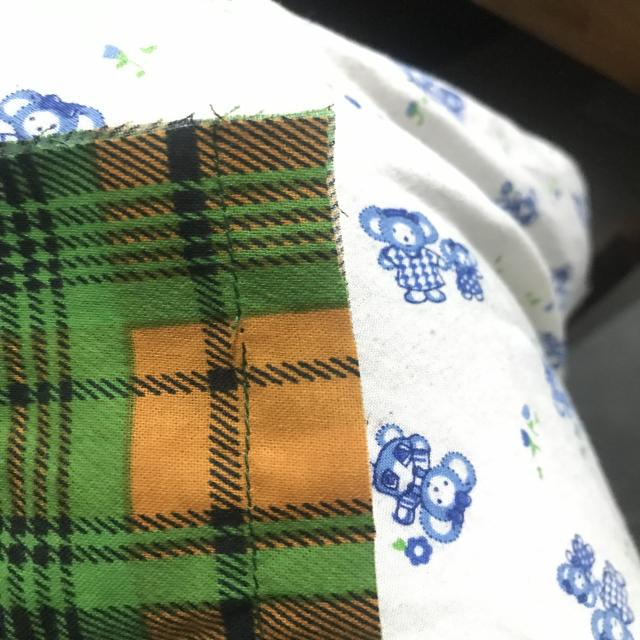broken: (222, 302, 259, 356)
good: (235, 392, 268, 495)
